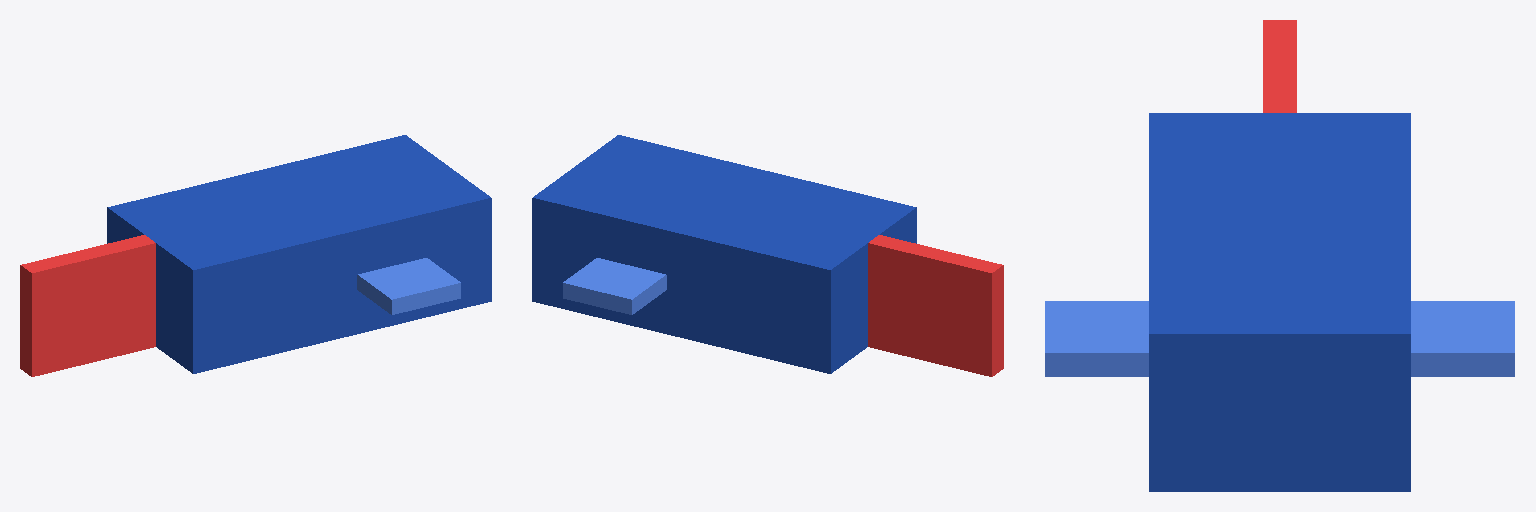
robot.urdf — fishbot:
<?xml version="1.0"?>
<robot name="fishbot">

  <!-- ================================================= -->
  <!-- Base Link (Main Body) -->
  <!-- ================================================= -->

  <link name="base_link">

    <visual>
      <origin xyz="0 0 0" rpy="0 0 0"/>
      <geometry>
        <box size="0.3 0.15 0.1"/>
      </geometry>

      <material name="blue">
        <color rgba="0.2 0.4 0.8 1"/>
      </material>
    </visual>

    <collision>
      <origin xyz="0 0 0" rpy="0 0 0"/>
      <geometry>
        <box size="0.3 0.15 0.1"/>
      </geometry>
    </collision>

    <inertial>
      <origin xyz="0 0 0" rpy="0 0 0"/>
      <mass value="1.0"/>

      <inertia
        ixx="0.01"
        ixy="0"
        ixz="0"
        iyy="0.01"
        iyz="0"
        izz="0.01"/>
    </inertial>

  </link>

  <!-- ================================================= -->
  <!-- Tail Fin -->
  <!-- ================================================= -->

  <link name="tail_link">

    <visual>
      <origin xyz="-0.06 0 0"
              rpy="1.5708 1.5708 0"/>

      <geometry>
        <box size="0.10 0.13 0.02"/>
      </geometry>

      <material name="red">
        <color rgba="1 0.3 0.3 1"/>
      </material>
    </visual>

    <collision>
      <origin xyz="-0.06 0 0"
              rpy="1.5708 1.5708 0"/>

      <geometry>
        <box size="0.10 0.13 0.02"/>
      </geometry>
    </collision>

    <inertial>
      <origin xyz="-0.06 0 0"
              rpy="0 0 0"/>

      <mass value="0.2"/>

      <inertia
        ixx="0.001"
        ixy="0"
        ixz="0"
        iyy="0.001"
        iyz="0"
        izz="0.001"/>
    </inertial>

  </link>

  <!-- Tail Joint -->

  <joint name="tail_joint" type="revolute">

    <origin xyz="-0.15 0 0"
            rpy="0 0 0"/>

    <parent link="base_link"/>
    <child link="tail_link"/>

    <!-- Swing left-right -->

    <axis xyz="0 0 1"/>

    <limit
      lower="-0.7"
      upper="0.7"
      effort="10"
      velocity="4"/>

  </joint>

  <!-- ================================================= -->
  <!-- Left Pectoral Fin -->
  <!-- ================================================= -->

  <link name="left_fin_link">

    <visual>
      <origin xyz="0 0.03 0"
              rpy="0 0 0"/>

      <geometry>
        <box size="0.07 0.06 0.015"/>
      </geometry>

      <material name="light_blue">
        <color rgba="0.4 0.6 1.0 1"/>
      </material>
    </visual>

    <collision>
      <origin xyz="0 0.03 0"
              rpy="0 0 0"/>

      <geometry>
        <box size="0.07 0.06 0.015"/>
      </geometry>
    </collision>

    <inertial>
      <origin xyz="0 0.03 0"
              rpy="0 0 0"/>

      <mass value="0.05"/>

      <inertia
        ixx="0.0001"
        ixy="0"
        ixz="0"
        iyy="0.0001"
        iyz="0"
        izz="0.0001"/>
    </inertial>

  </link>

  <!-- Left Fin Joint -->

  <joint name="left_fin_joint" type="revolute">

    <origin xyz="0.05 0.075 0"
            rpy="0 0 0"/>

    <parent link="base_link"/>
    <child link="left_fin_link"/>

    <!-- Pitch -->

    <axis xyz="0 1 0"/>

    <limit
      lower="-0.3"
      upper="0.3"
      effort="5"
      velocity="2"/>

  </joint>

  <!-- ================================================= -->
  <!-- Right Pectoral Fin -->
  <!-- ================================================= -->

  <link name="right_fin_link">

    <visual>
      <origin xyz="0 -0.03 0"
              rpy="0 0 0"/>

      <geometry>
        <box size="0.07 0.06 0.015"/>
      </geometry>

      <material name="light_blue">
        <color rgba="0.4 0.6 1.0 1"/>
      </material>
    </visual>

    <collision>
      <origin xyz="0 -0.03 0"
              rpy="0 0 0"/>

      <geometry>
        <box size="0.07 0.06 0.015"/>
      </geometry>
    </collision>

    <inertial>
      <origin xyz="0 -0.03 0"
              rpy="0 0 0"/>

      <mass value="0.05"/>

      <inertia
        ixx="0.0001"
        ixy="0"
        ixz="0"
        iyy="0.0001"
        iyz="0"
        izz="0.0001"/>
    </inertial>

  </link>

  <!-- Right Fin Joint -->

  <joint name="right_fin_joint" type="revolute">

    <origin xyz="0.05 -0.075 0"
            rpy="0 0 0"/>

    <parent link="base_link"/>
    <child link="right_fin_link"/>

    <!-- Pitch -->

    <axis xyz="0 1 0"/>

    <limit
      lower="-0.3"
      upper="0.3"
      effort="5"
      velocity="2"/>

  </joint>

  <!-- ================================================= -->
  <!-- ros2_control -->
  <!-- ================================================= -->

  <ros2_control name="FishbotSystem" type="system">

    <hardware>
      <plugin>gazebo_ros2_control/GazeboSystem</plugin>
    </hardware>

    <!-- Tail Joint -->

    <joint name="tail_joint">
      <command_interface name="position"/>
      <state_interface name="position"/>
      <state_interface name="velocity"/>
    </joint>

    <!-- Left Fin -->

    <joint name="left_fin_joint">
      <command_interface name="position"/>
      <state_interface name="position"/>
      <state_interface name="velocity"/>
    </joint>

    <!-- Right Fin -->

    <joint name="right_fin_joint">
      <command_interface name="position"/>
      <state_interface name="position"/>
      <state_interface name="velocity"/>
    </joint>

  </ros2_control>

  <!-- ================================================= -->
  <!-- Gazebo Plugin -->
  <!-- ================================================= -->

  <gazebo>
    <plugin
        name="gazebo_ros2_control"
        filename="libgazebo_ros2_control.so">
    </plugin>
    <parameters>
    /home/adhiraj/fishbot_ws/src/fishbot_description/config/fishbot_controllers.yaml
    </parameters>

  </gazebo>

</robot>

--- Facts derived from the render (not from the file) ---
Views: 3 orthographic renders of the robot side by side, from view 1: azimuth 30°, elevation 25°; view 2: azimuth 150°, elevation 25°; view 3: azimuth 270°, elevation 25°.
Model fishbot with 4 links and 3 joints (3 revolute), rooted at base_link, posed all joints at 0.
Links seen in each view (by area): view 1: base_link, tail_link, right_fin_link; view 2: base_link, tail_link, left_fin_link; view 3: base_link, left_fin_link, right_fin_link, tail_link.
Boxes of the visible links, x1,y1,x2,y2 form: base_link: (107, 135, 491, 373); tail_link: (20, 235, 155, 376); right_fin_link: (357, 258, 460, 314); base_link: (532, 135, 916, 373); tail_link: (868, 235, 1003, 376); left_fin_link: (563, 258, 666, 314); base_link: (1149, 113, 1410, 491); left_fin_link: (1411, 301, 1514, 376); right_fin_link: (1045, 301, 1148, 376); tail_link: (1263, 20, 1296, 112).
Bounding box of the posed robot: 0.425 × 0.27 × 0.1 m (x, y, z).
Geometry: primitives only (box / cylinder / sphere), no mesh files.
